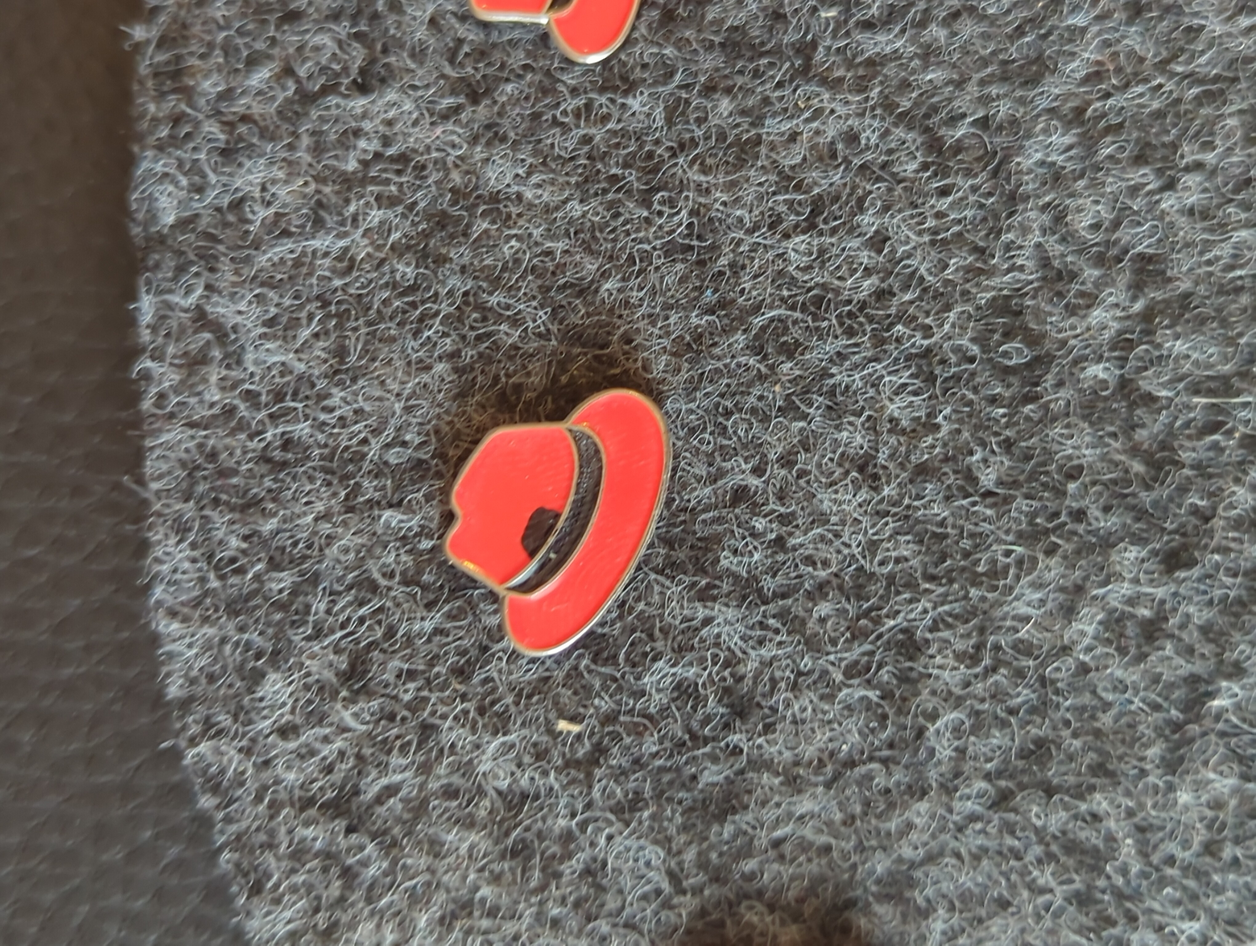Red-Hat: (350, 318, 791, 720)
Scratch: (499, 483, 606, 590)
